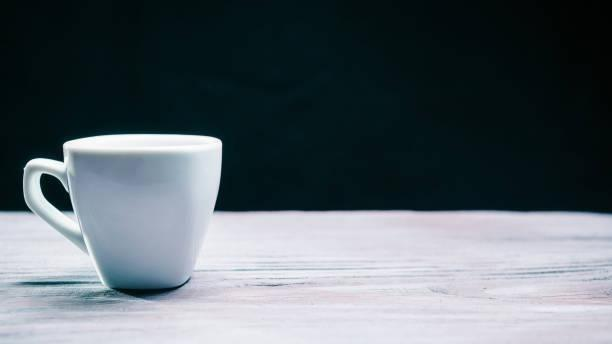cup-handle: (22, 132, 224, 295)
